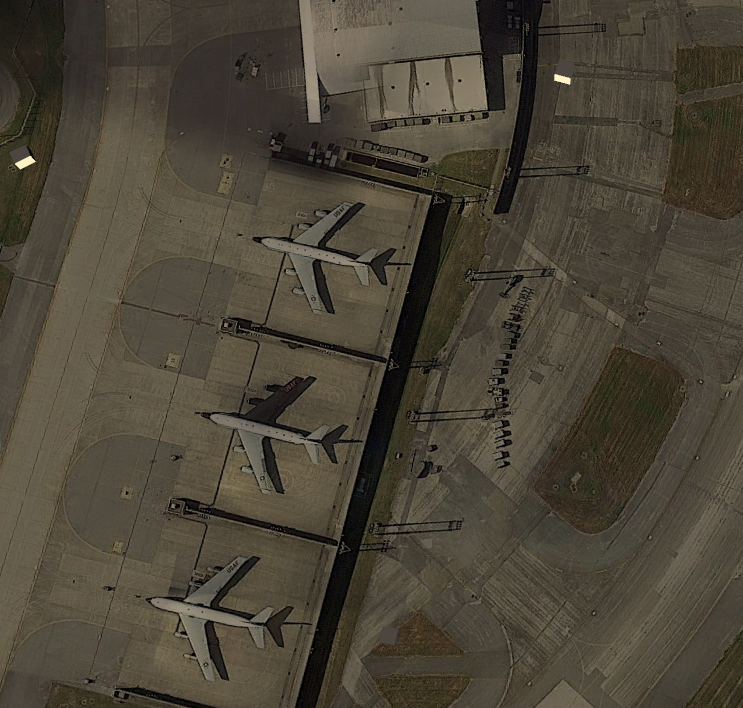A11: (187, 371, 346, 498), (140, 552, 280, 686), (248, 195, 383, 319)
